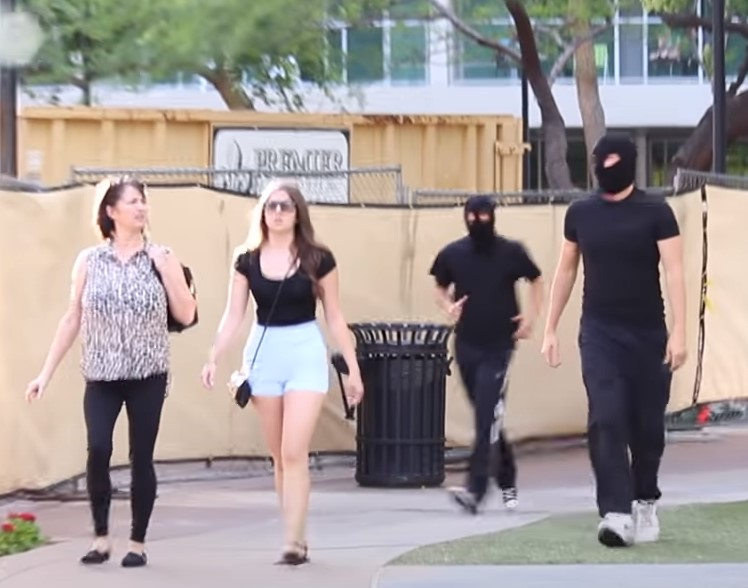face_no_mask: (93, 173, 149, 234), (258, 183, 304, 246)
